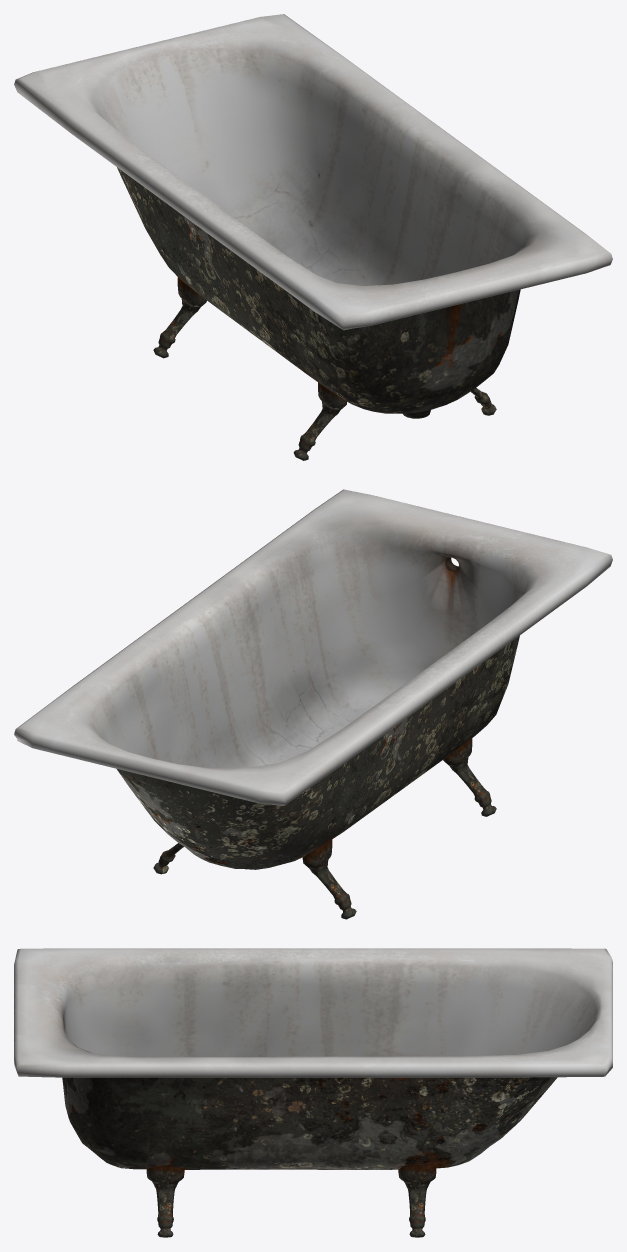
File: Bath.glb
The picture shows the model from 3 angles, top to bottom: view 1: azimuth 30°, elevation 25°; view 2: azimuth 150°, elevation 25°; view 3: azimuth 270°, elevation 25°; orthographic projection. The views are drawn at different scales.
Parts seen in each view (by area): view 1: Bathtube.001; view 2: Bathtube.001; view 3: Bathtube.001.
Boxes of the visible parts, x1=… form: Bathtube.001: x1=14, y1=14, x2=612, y2=460; Bathtube.001: x1=14, y1=489, x2=612, y2=919; Bathtube.001: x1=14, y1=948, x2=612, y2=1237.
Size of the model in its own units: 1.46 by 1.09 by 3.1.
Materials: 1 (1 with a texture image).
